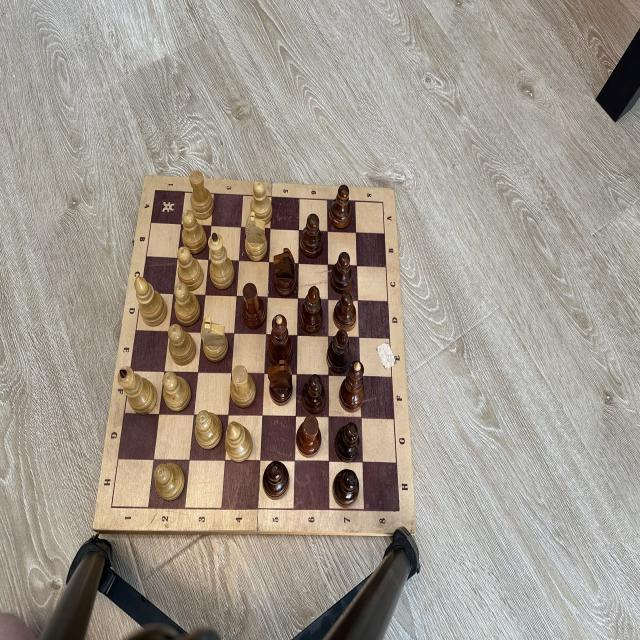chess-table-corners: (105, 502, 116, 512), (396, 504, 404, 516), (151, 186, 160, 196), (378, 197, 386, 208)
